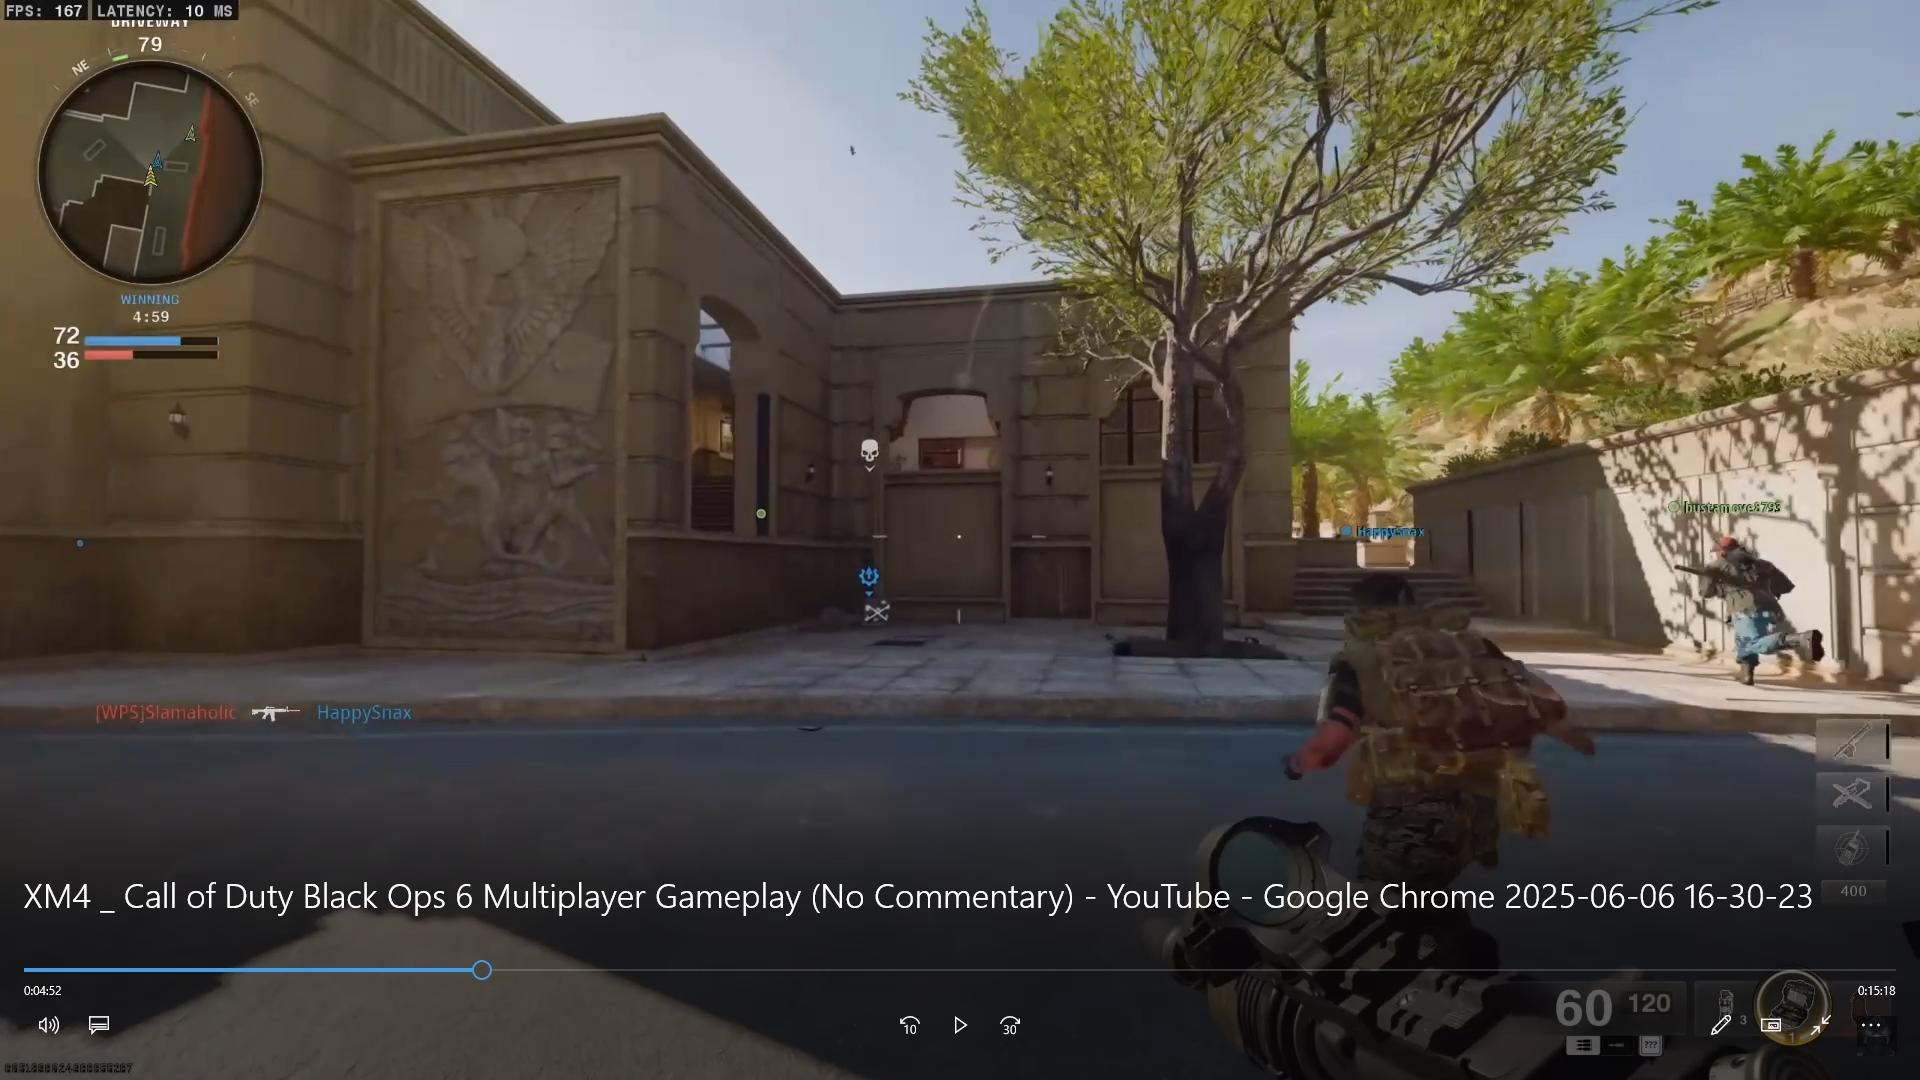Enemy: (1305, 550, 1532, 873), (1673, 521, 1841, 703)
